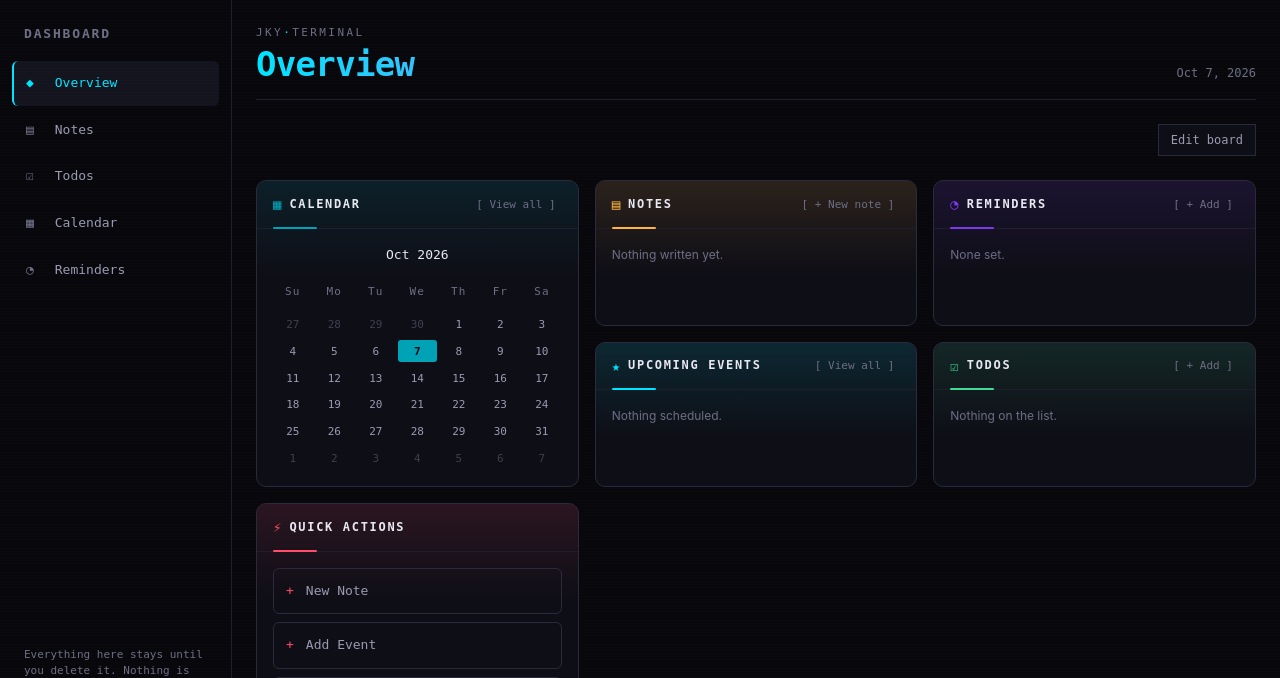
Test case: the overview grid › the layout editor › hides a card, and says how many are hidden
This screenshot has width=1280, height=678.
Click the button "Edit board": [1207, 140] box [1158,124,1256,156]
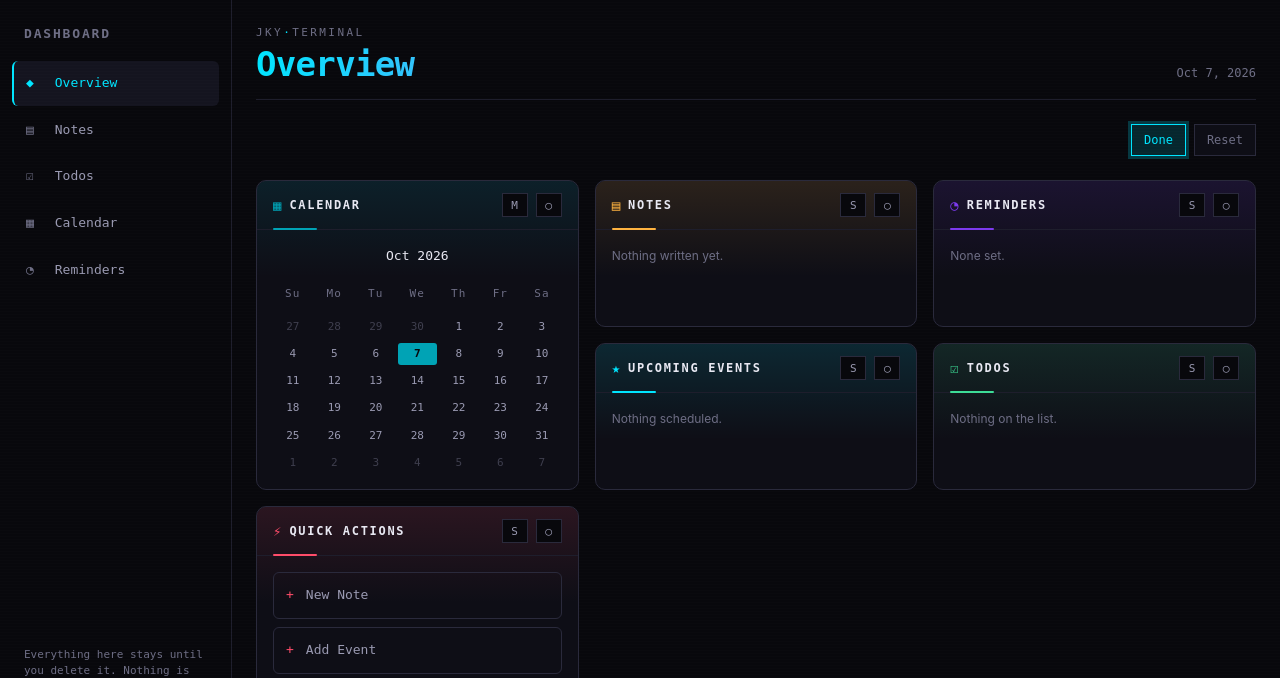
Click the button named "hide card": [887, 205] box [874,193,900,217]
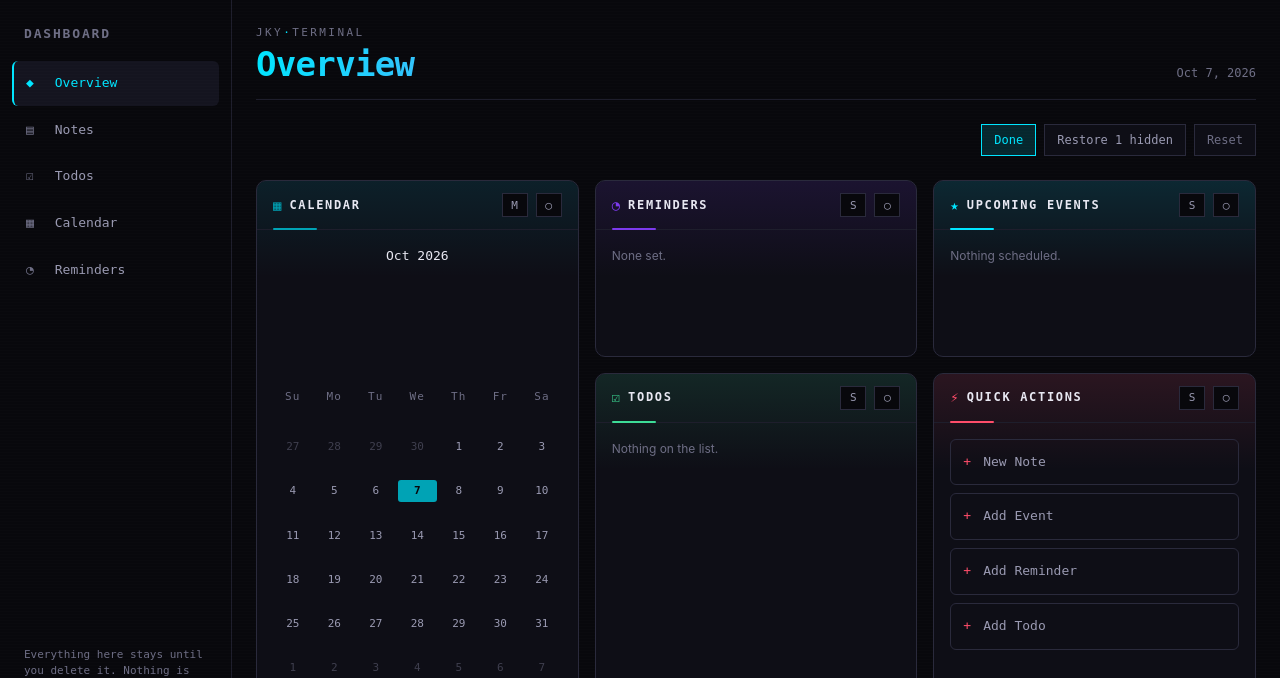
expect the button "Restore 1 hidden" is shown: met, box [1044,124,1186,156]
